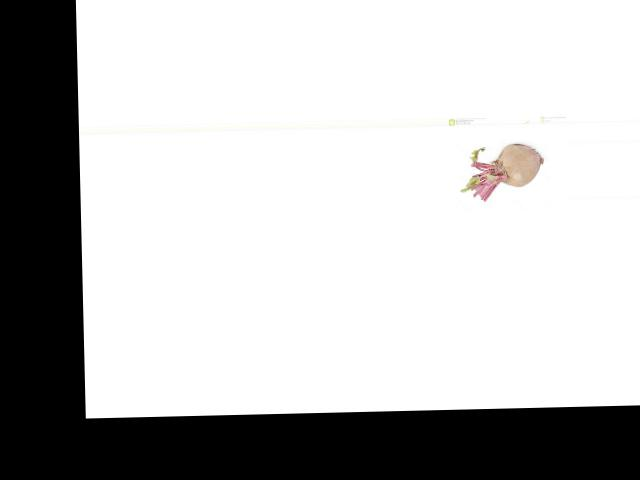beet: (460, 144, 545, 201)
